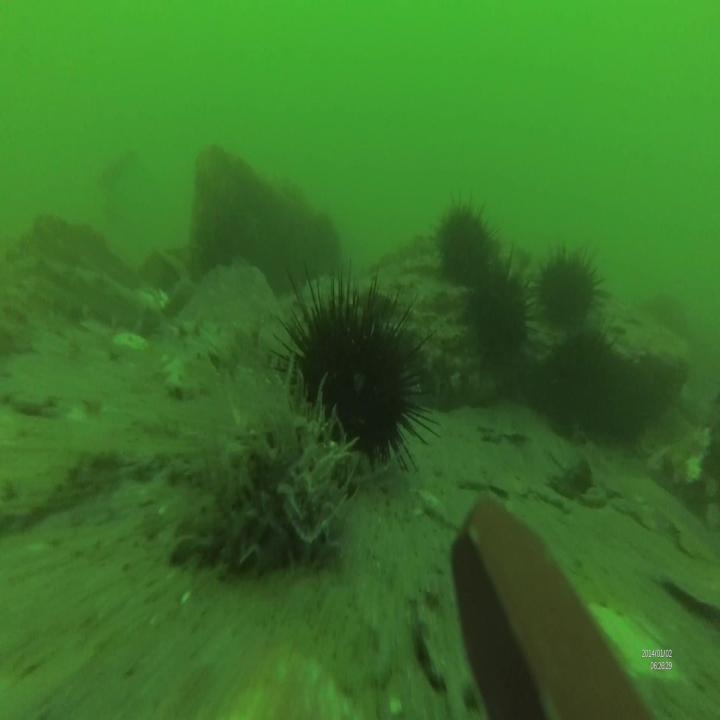echinus: (280, 264, 421, 482), (463, 256, 533, 376), (528, 254, 604, 335), (436, 203, 502, 283)
